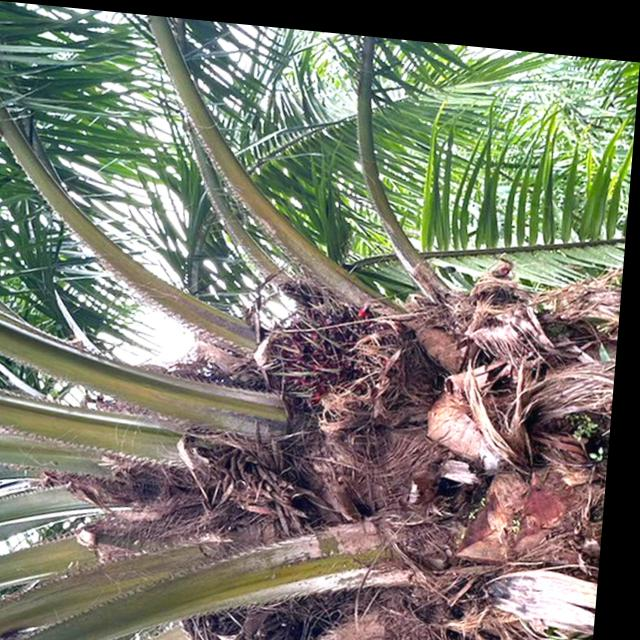ripe: (271, 288, 384, 411)
